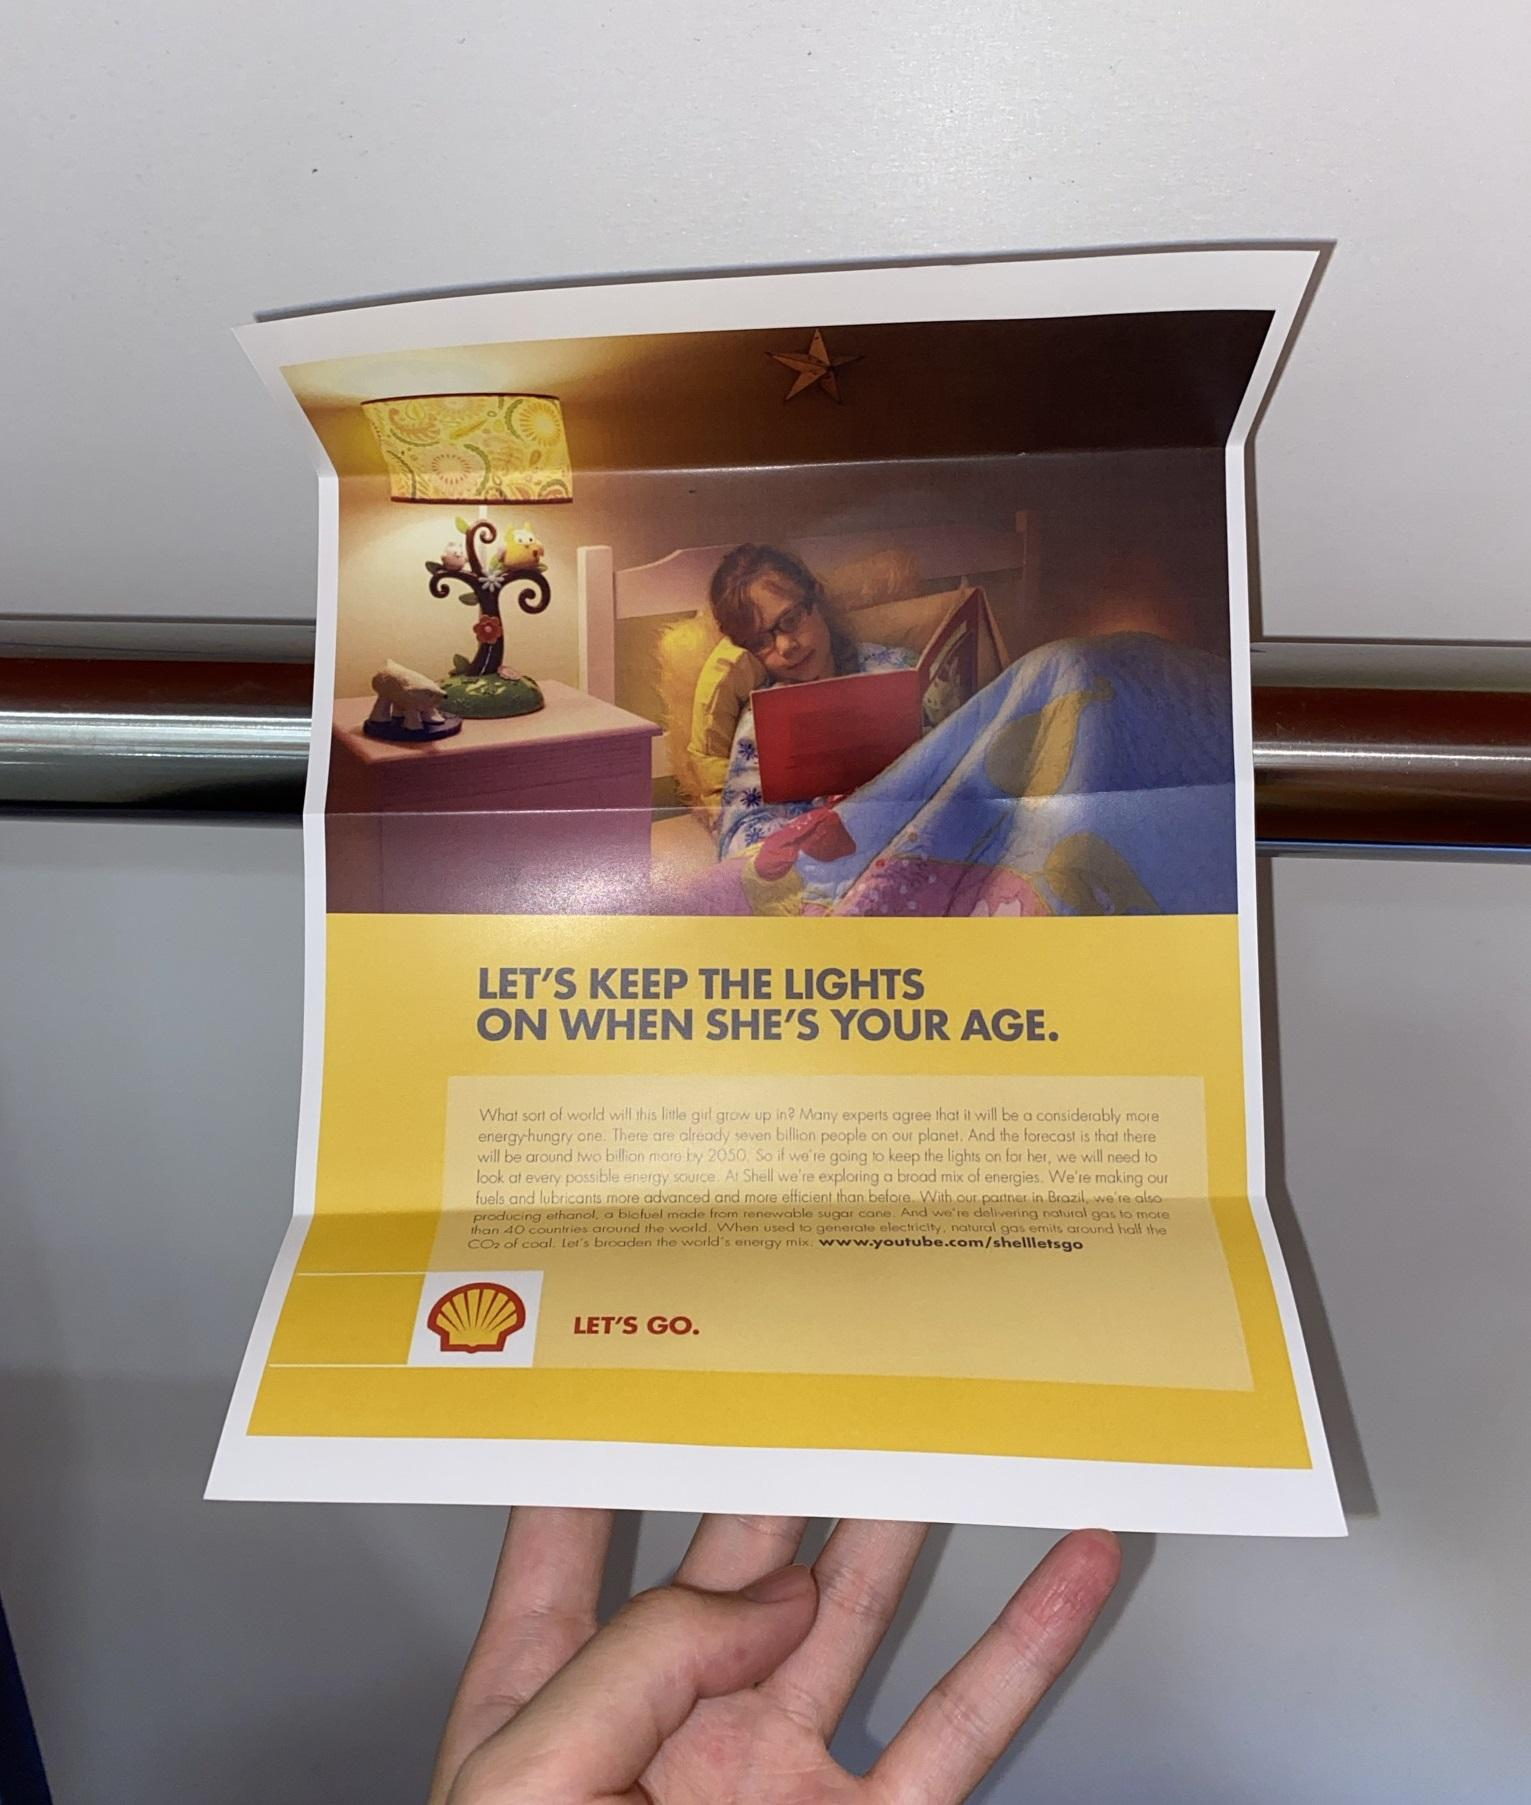paper: (159, 179, 1482, 1630)
